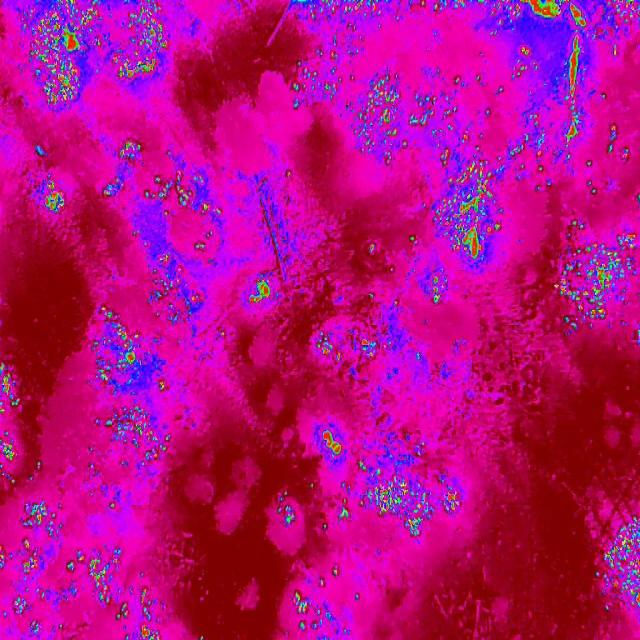fire: (294, 1, 640, 332), (0, 475, 164, 640), (43, 140, 226, 234), (84, 306, 182, 474), (25, 0, 173, 108), (140, 233, 286, 331), (322, 452, 470, 537), (288, 564, 372, 640), (588, 514, 640, 626), (0, 360, 32, 498), (310, 321, 384, 372), (315, 422, 346, 462), (276, 490, 306, 530)
